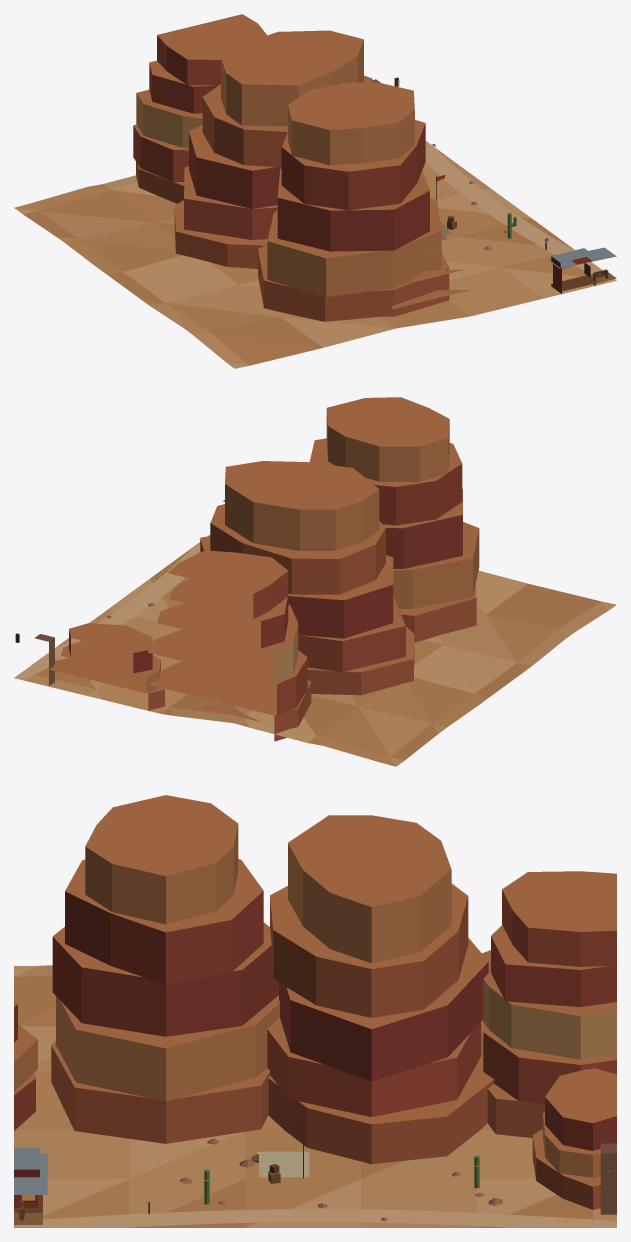
3 renders of one model, top to bottom at view 1: azimuth 30°, elevation 25°; view 2: azimuth 150°, elevation 25°; view 3: azimuth 270°, elevation 25°, orthographic. The views are drawn at different scales.
Parts seen in each view (by area): view 1: baked; view 2: baked; view 3: baked.
Boxes of the visible parts, <box> form: baked: <box>14,14,616,368</box>; baked: <box>14,397,616,766</box>; baked: <box>14,795,616,1227</box>.
Bounding box in the file's own units: 62.5 × 28.97 × 62.5.
